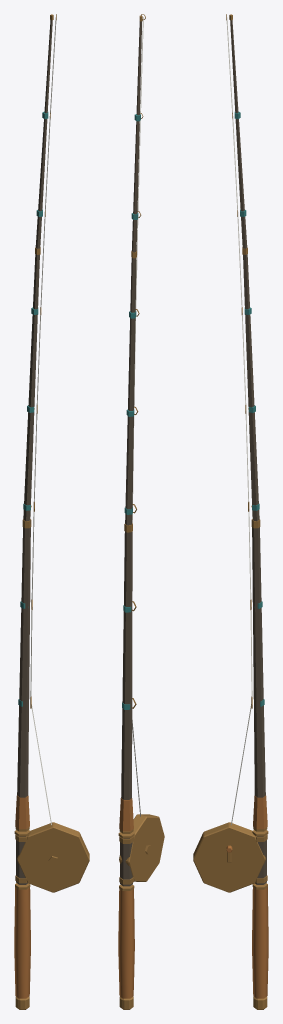
File: tool_fishing_rod_master_a.glb
The picture shows the model from 3 angles, left to right: view 1: azimuth 90°, elevation 25°; view 2: azimuth 150°, elevation 25°; view 3: azimuth 270°, elevation 25°; orthographic projection.
Visible parts, largest first — view 1: rod_blank_section_1, rod_butt_cap, rod_foregrip, rod_line_segment_00, rod_guide_wrap_00; view 2: rod_blank_section_1, rod_butt_cap, rod_foregrip, rod_line_segment_00, rod_guide_wrap_00; view 3: rod_blank_section_1, rod_butt_cap, rod_foregrip, rod_line_segment_00, rod_guide_wrap_00.
Boxes of the visible parts, bbox=[...] form: rod_blank_section_1: bbox=[16, 20, 52, 884]; rod_butt_cap: bbox=[14, 14, 89, 1009]; rod_foregrip: bbox=[14, 795, 30, 998]; rod_line_segment_00: bbox=[30, 17, 56, 824]; rod_guide_wrap_00: bbox=[18, 111, 48, 706]; rod_blank_section_1: bbox=[120, 21, 141, 886]; rod_butt_cap: bbox=[118, 14, 164, 1009]; rod_foregrip: bbox=[118, 798, 134, 998]; rod_line_segment_00: bbox=[132, 17, 143, 816]; rod_guide_wrap_00: bbox=[122, 114, 140, 709]; rod_blank_section_1: bbox=[230, 20, 266, 884]; rod_butt_cap: bbox=[193, 14, 268, 1009]; rod_foregrip: bbox=[226, 795, 268, 998]; rod_line_segment_00: bbox=[226, 17, 252, 824]; rod_guide_wrap_00: bbox=[234, 111, 264, 706].
Size of the model in its own units: 0.07 by 3.37 by 0.2325.
